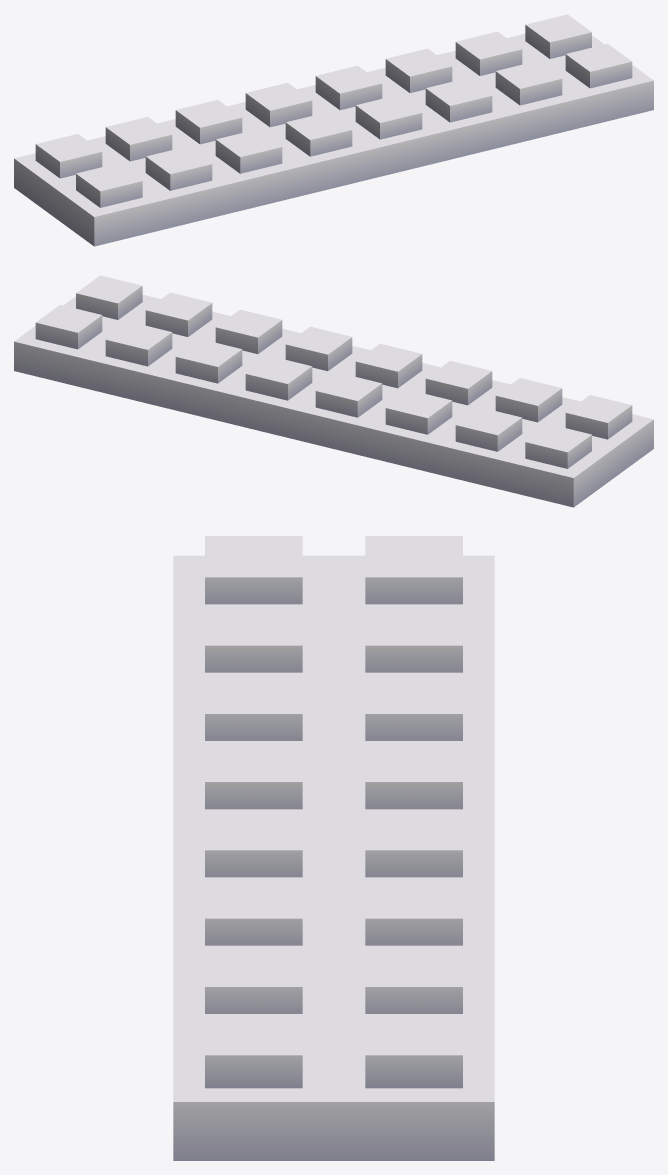
The model's file is kenney-brick-square-lq-plate-2-x-8.glb.
The picture shows the model from 3 angles, top to bottom: view 1: azimuth 30°, elevation 25°; view 2: azimuth 150°, elevation 25°; view 3: azimuth 270°, elevation 25°; orthographic projection. The views are drawn at different scales.
Parts seen in each view (by area): view 1: square-lq-plate-2x8; view 2: square-lq-plate-2x8; view 3: square-lq-plate-2x8.
Boxes of the visible parts, x1,y1,x2,y2 form: square-lq-plate-2x8: (14, 14, 653, 246); square-lq-plate-2x8: (14, 275, 653, 507); square-lq-plate-2x8: (173, 536, 494, 1160).
Size of the model in its own units: 0.636 by 0.05 by 0.158.
Materials: 1 (1 with a texture image).
